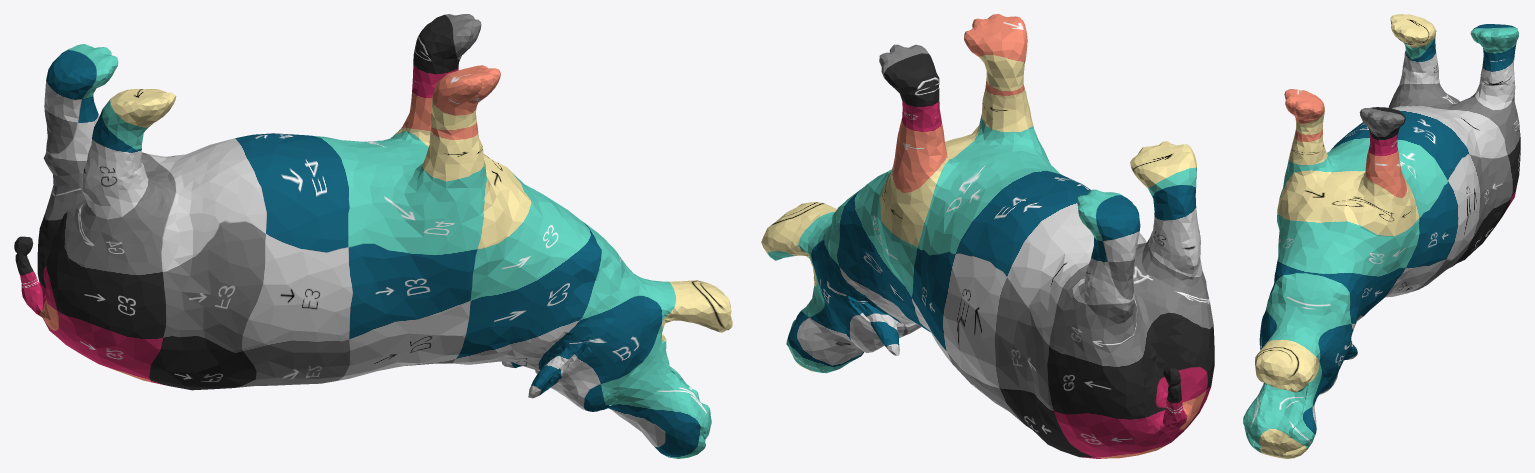
The model's file is horse_06-hippo_05.obj.
The picture shows the model from 3 angles, left to right: view 1: azimuth 30°, elevation 25°; view 2: azimuth 150°, elevation 25°; view 3: azimuth 270°, elevation 25°; orthographic projection. The views are drawn at different scales.
Visible parts, largest first — view 1: horse_06-hippo_05_export; view 2: horse_06-hippo_05_export; view 3: horse_06-hippo_05_export.
Boxes of the visible parts, x1,y1,x2,y2 form: horse_06-hippo_05_export: (14, 14, 732, 458); horse_06-hippo_05_export: (761, 14, 1214, 458); horse_06-hippo_05_export: (1243, 14, 1520, 458).
Bounding box in the file's own units: 0.8678 × 0.6137 × 0.521.
